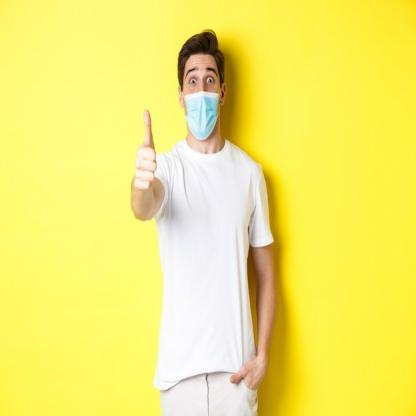thumb_up: (132, 106, 162, 195)
